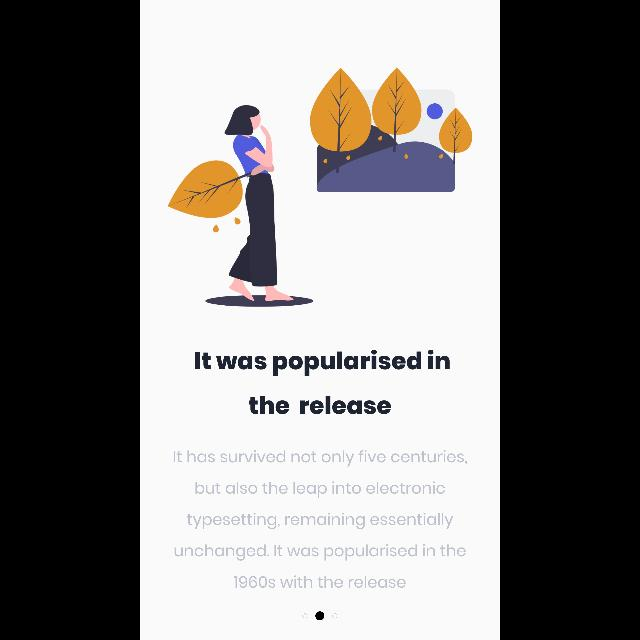image: (168, 67, 472, 307)
pageindicator: (302, 611, 338, 621)
text: (173, 449, 467, 588), (195, 350, 450, 414)
